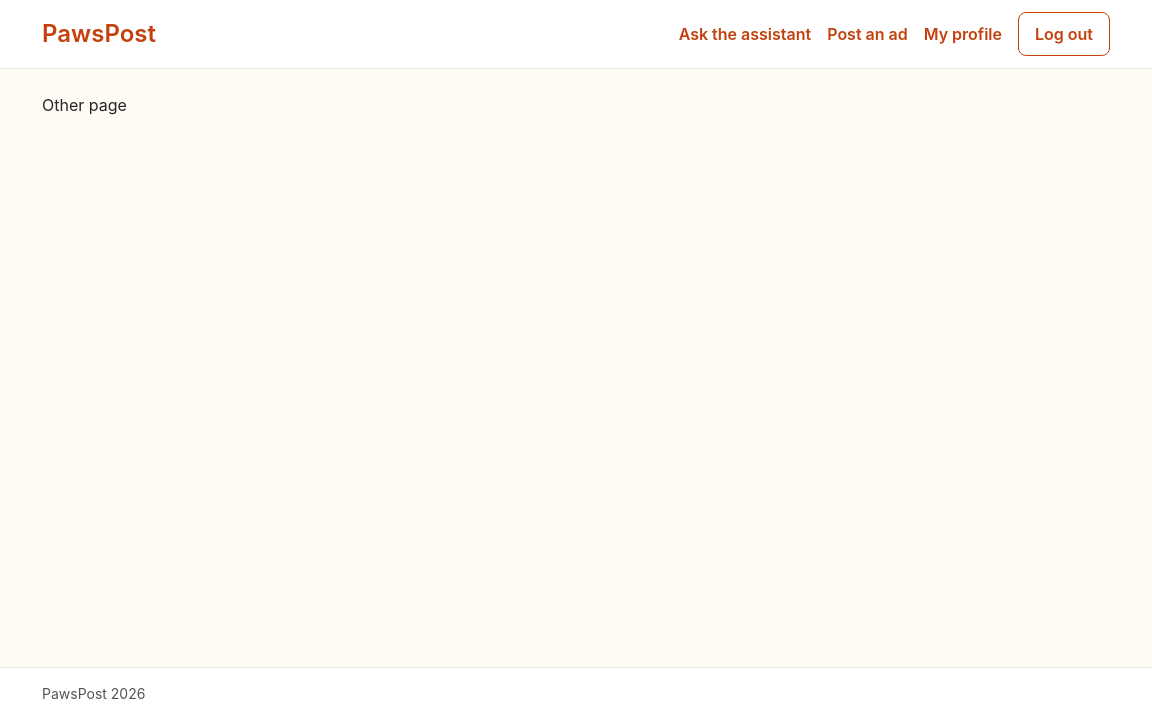
Test: AuthNav › keeps the user logged in and shows a message when logout fails by network
Step 1. Click the button "Log out" → (1064, 34), box [1018,12,1110,56]
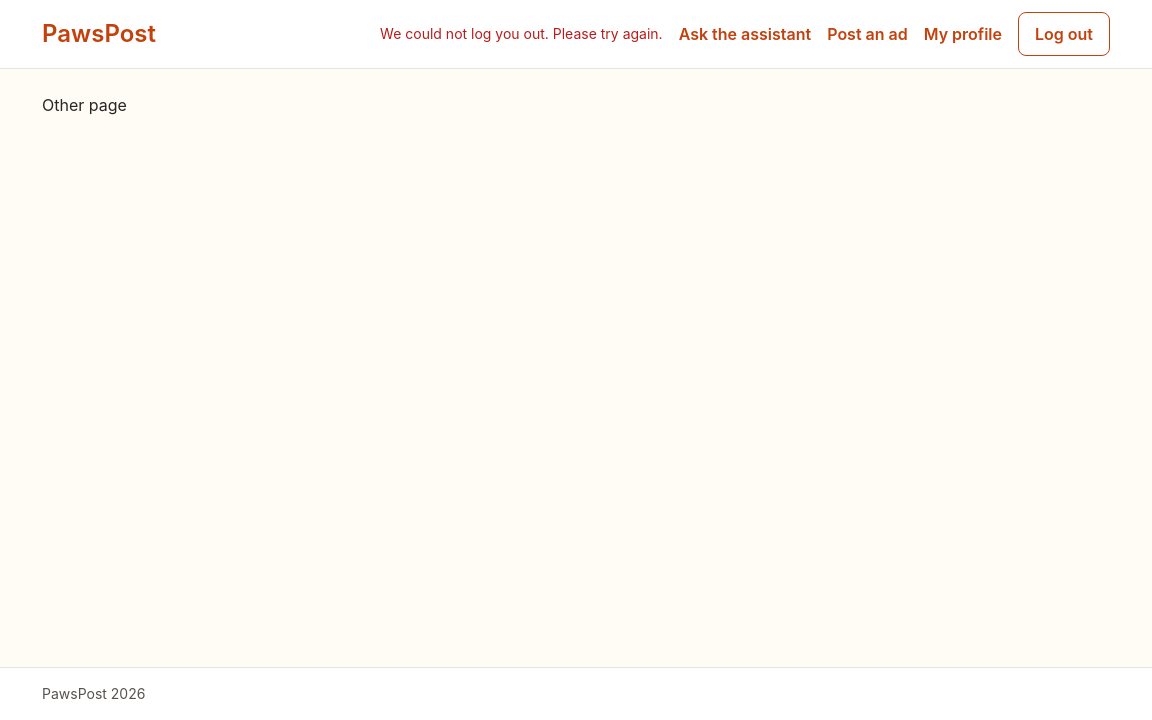
Expected: the text "Other page" is shown, [42,95,127,115]
Result: the message reads "We could not log you out. Please try again." at [380,25,663,42]
